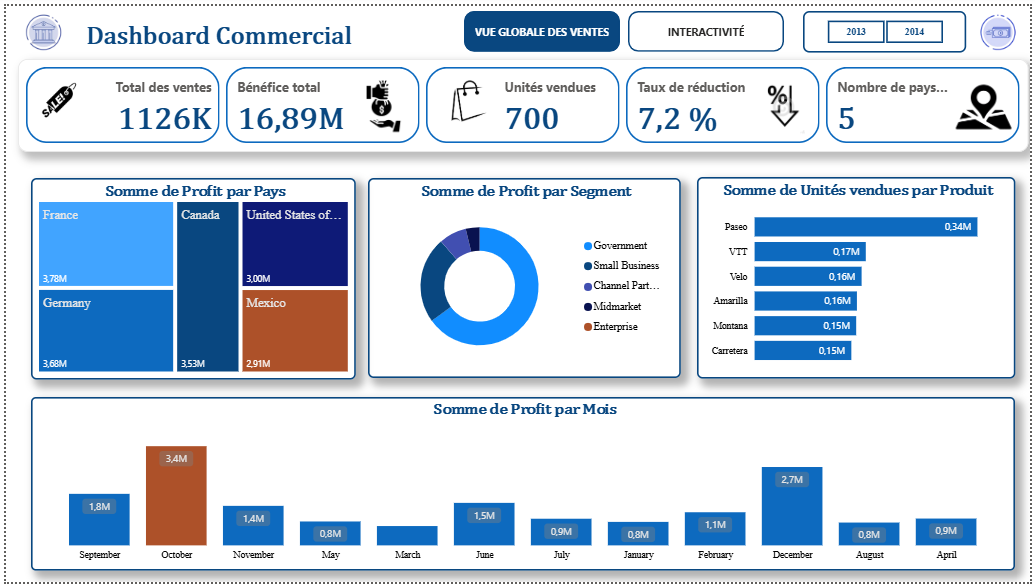

The dashboard page shown, as its layout file describes it:
{"tool":"powerbi","page":{"name":"VUE GLOBALE DES VENTES","canvas":[1280,720],"ordinal":0},"visuals":[{"type":"image","box":[0,0,94.3,65.7],"z":0,"group":"g1"},{"type":"image","box":[1200.2,0,79.8,66.1],"z":1000,"group":"g1"},{"type":"slicer","fields":{"Values":["financials.Année"]},"box":[995.8,6.8,203.8,51.6],"z":2000,"group":"g1"},{"type":"pageNavigator","box":[571.9,6.8,400.8,51.6],"z":3000,"group":"g1"},{"type":"cardVisual","fields":{"Data":["_Mesure.Total des ventes","_Mesure.Bénéfice total","_Mesure.Unités vendues","_Mesure.Taux de réduction","_Mesure.Nombre de pays couverts"]},"box":[15.1,66.1,1263.5,115.6],"z":3000},{"type":"textbox","box":[95,15.1,393.6,50.9],"z":4000,"group":"g1"},{"type":"treemap","fields":{"Group":["financials.Pays"],"Values":["Sum(financials.Profit)"]},"box":[31.7,214.7,406,251.9],"z":4000},{"type":"donutChart","fields":{"Category":["financials.Segment"],"Y":["Sum(financials.Profit)"]},"box":[452.8,214.7,390.9,250.5],"z":5000},{"type":"clusteredBarChart","fields":{"Category":["financials.Produit"],"Y":["Sum(financials.Unités vendues)"]},"box":[864.3,213.3,397.8,251.9],"z":6000},{"type":"clusteredColumnChart","title":"Somme de Profit par Mois","fields":{"Y":["Sum(financials.Profit)"],"Category":["financials.Nom du mois"]},"box":[31.7,488.6,1230.5,217.5],"z":7000},{"type":"group","id":"g1","title":"Groupe 1","box":[0,0,1280,66.1],"z":9002}]}

Visuals, with their boxes in screenshot pixels (x1, y1, x2, y2), scaled from the page's 1280x720 canvas onto the 1035x586 screenshot:
image: box(0, 0, 76, 53)
image: box(970, 0, 1034, 54)
slicer - financials.Année: box(805, 6, 970, 48)
pageNavigator: box(462, 6, 787, 48)
cardVisual - _Mesure.Total des ventes x _Mesure.Bénéfice total: box(12, 54, 1034, 148)
textbox: box(77, 12, 395, 54)
treemap - financials.Pays x Sum(financials.Profit): box(26, 175, 354, 380)
donutChart - financials.Segment x Sum(financials.Profit): box(366, 175, 682, 379)
clusteredBarChart - financials.Produit x Sum(financials.Unités vendues): box(699, 174, 1021, 379)
"Somme de Profit par Mois" clusteredColumnChart: box(26, 398, 1021, 575)
"Groupe 1" group: box(0, 0, 1034, 54)
